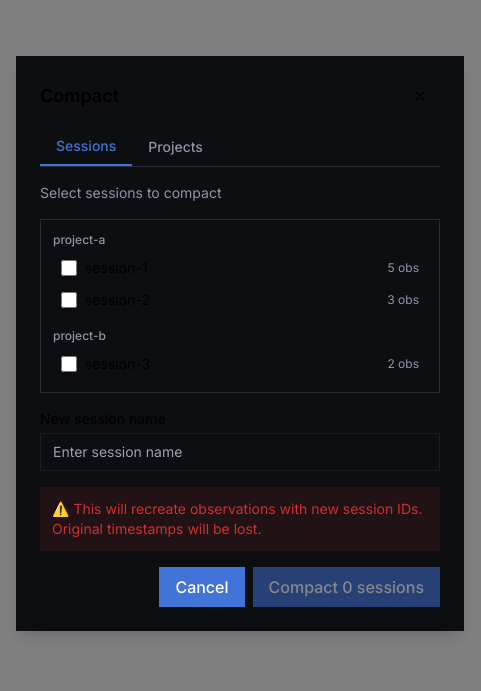
Test: CompactModal › checkbox selection - Sessions › should toggle session selection on checkbox click
Click the checkbox labelled "session-1 5 obs" at (69, 268), box [61,260,77,276]
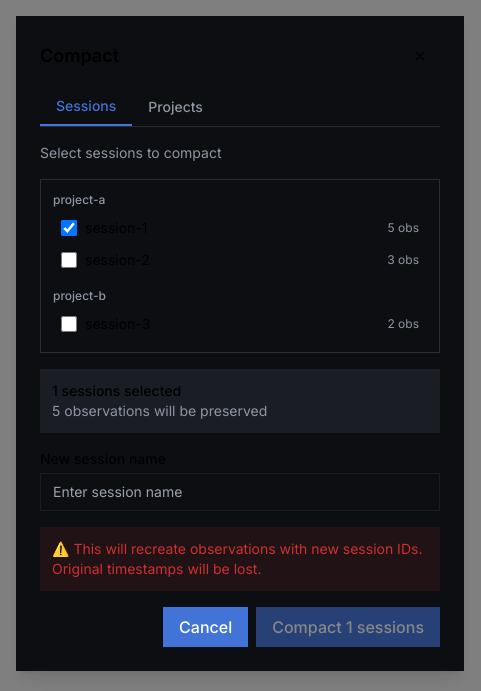
Result: the text "1 sessions selected" is shown at [52,382,181,398]
